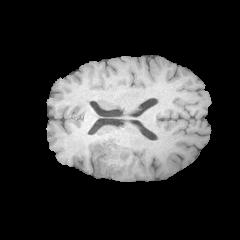glioma: (89, 137, 135, 178)
